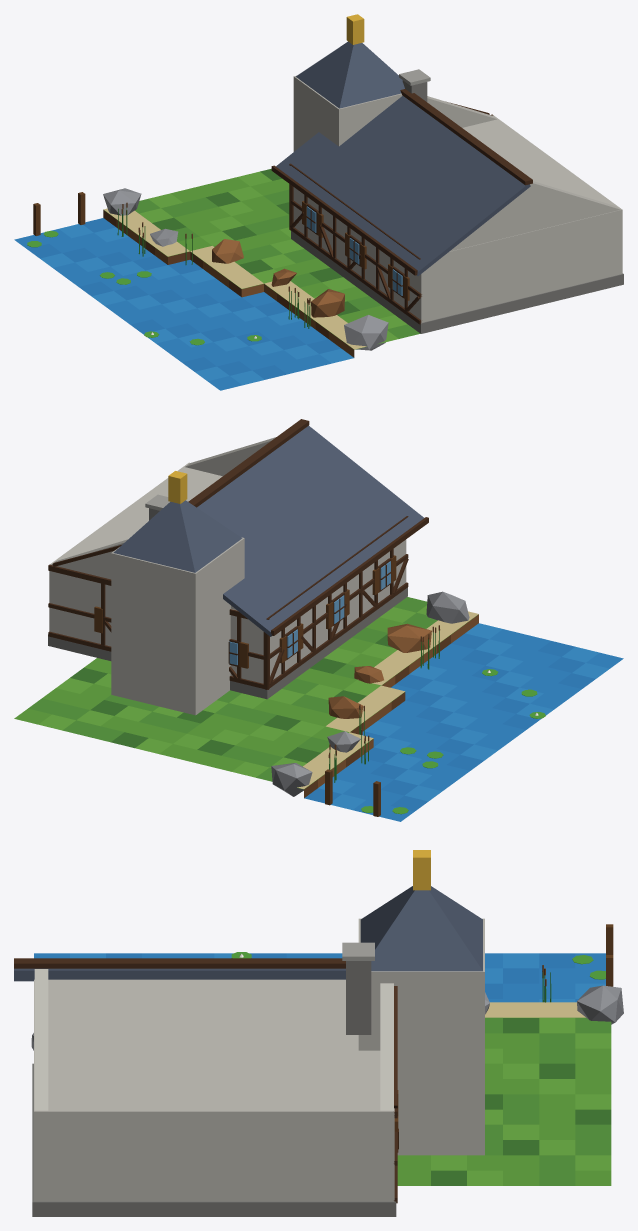
Rendered from chunk_4_12.glb.
3 views of the same model, one above another, from view 1: azimuth 30°, elevation 25°; view 2: azimuth 150°, elevation 25°; view 3: azimuth 270°, elevation 25° (orthographic). The views are drawn at different scales.
Visible parts, largest first — view 1: chunk_4_12; view 2: chunk_4_12; view 3: chunk_4_12.
Boxes of the visible parts, bbox=[...] form: chunk_4_12: bbox=[14, 14, 623, 390]; chunk_4_12: bbox=[14, 419, 623, 821]; chunk_4_12: bbox=[14, 850, 623, 1216].
Bounding box in the file's own units: 18.08 × 8.96 × 16.9.
